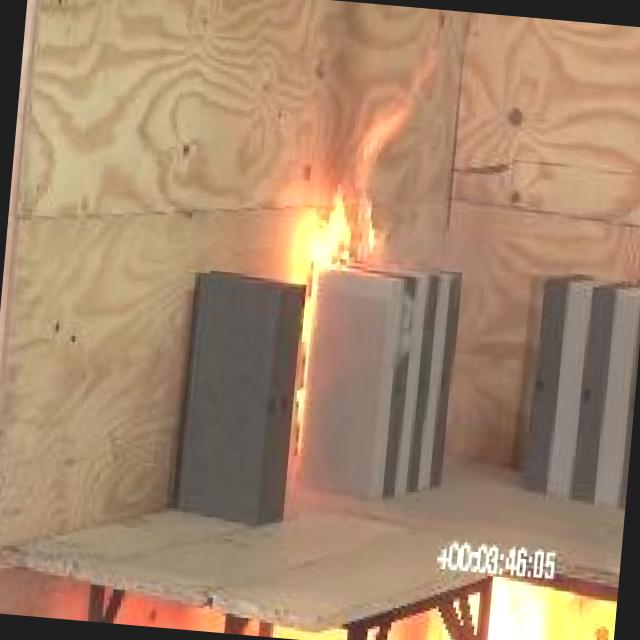fire: (255, 66, 434, 311)
